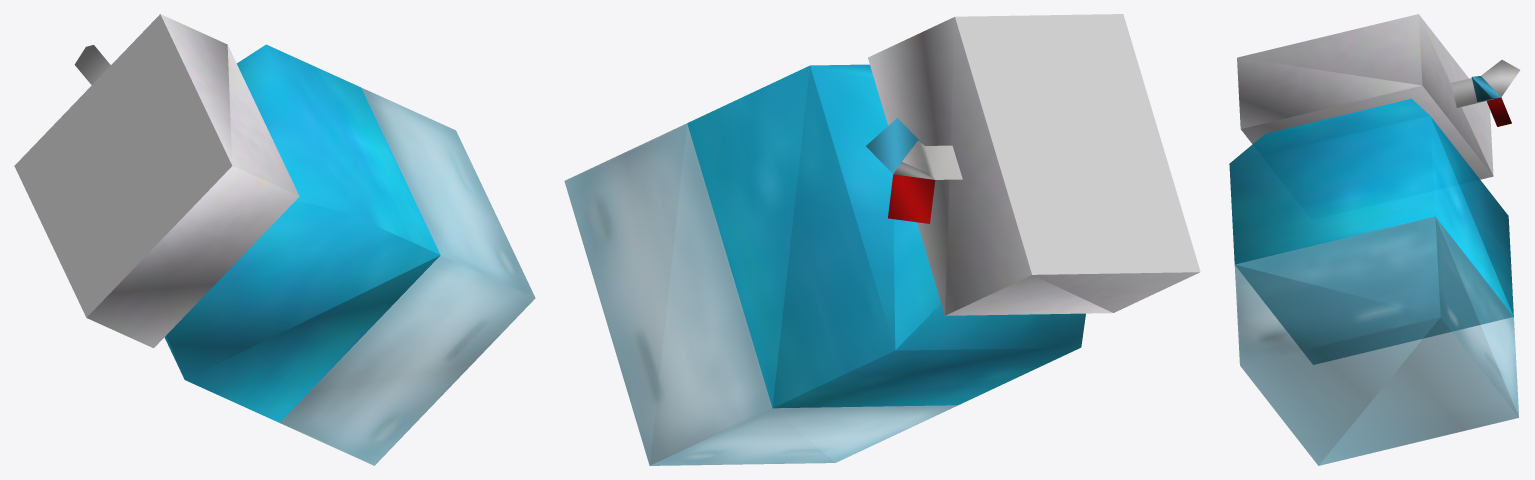
File: watercooler.glb
3 renders of one model, left to right at view 1: azimuth 30°, elevation 25°; view 2: azimuth 150°, elevation 25°; view 3: azimuth 270°, elevation 25°, orthographic. The views are drawn at different scales.
Parts seen in each view (by area): view 1: watercooler; view 2: watercooler; view 3: watercooler.
Part boxes in pixels (box(x1,y1,x2,y2)): watercooler: box(14, 14, 535, 465); watercooler: box(564, 14, 1200, 465); watercooler: box(1229, 14, 1519, 465).
Bounding box in the file's own units: 2.36 × 2.26 × 1.55.
8 materials, 7 textured.
